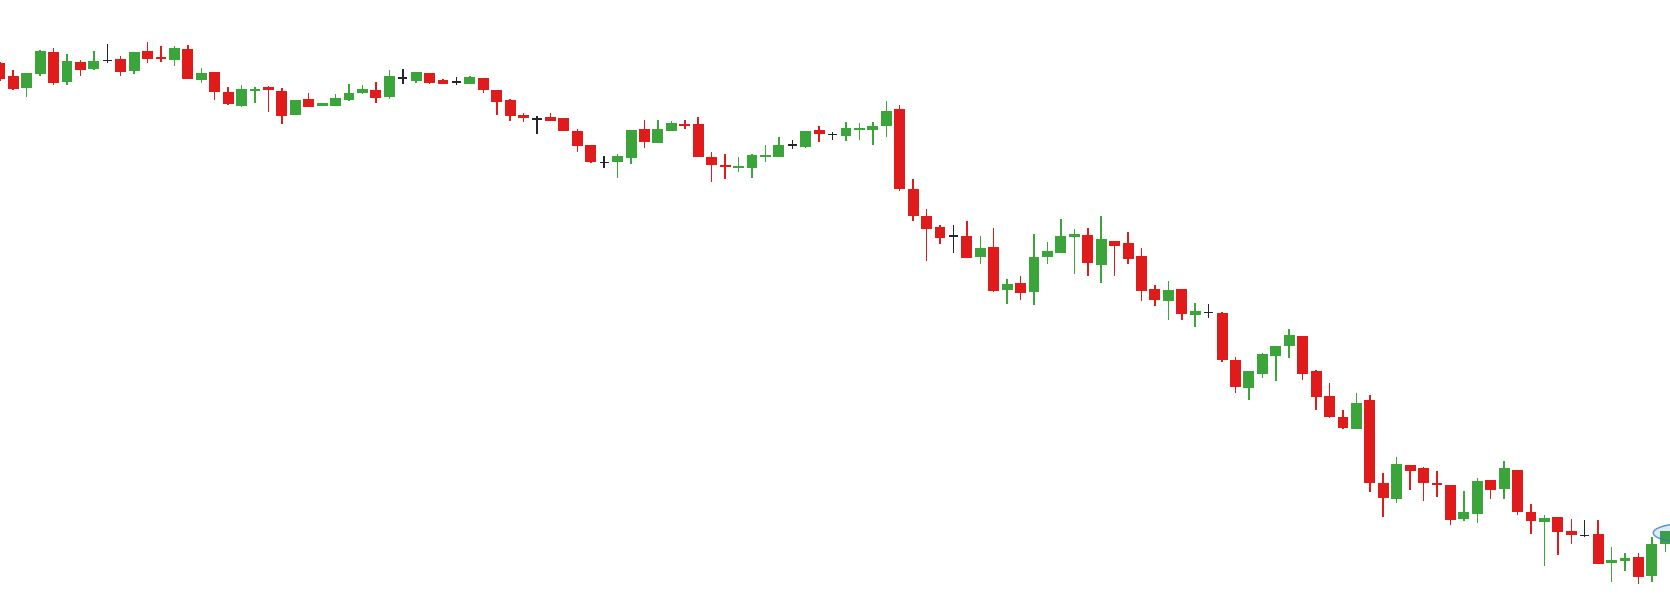sell: (985, 220, 1095, 282)
